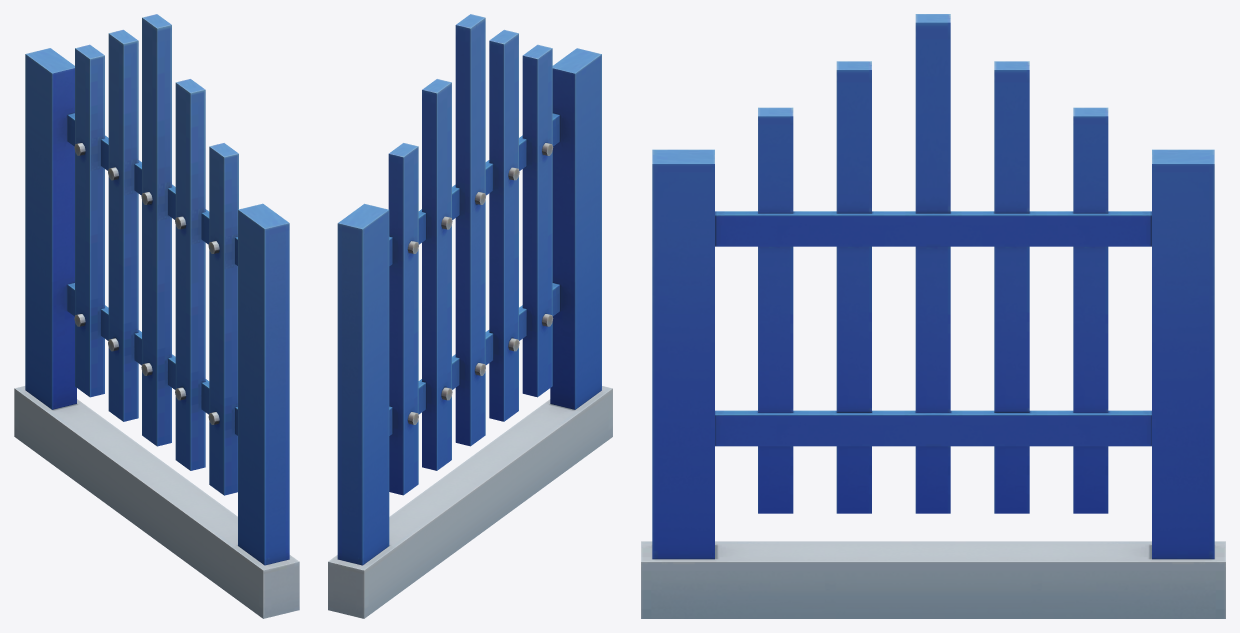
File: my_poolparty_01_b_partition.glb
The picture shows the model from 3 angles, left to right: view 1: azimuth 30°, elevation 25°; view 2: azimuth 150°, elevation 25°; view 3: azimuth 270°, elevation 25°; orthographic projection. The views are drawn at different scales.
Parts seen in each view (by area): view 1: my_poolparty_01_b_partition; view 2: my_poolparty_01_b_partition; view 3: my_poolparty_01_b_partition.
Part boxes in pixels (box(x1,y1,x2,y2)): my_poolparty_01_b_partition: box(14, 14, 299, 618); my_poolparty_01_b_partition: box(328, 14, 612, 618); my_poolparty_01_b_partition: box(641, 14, 1225, 618).
Bounding box in the file's own units: 0.00062 × 0.00822 × 0.00738.
1 material, 1 textured.
